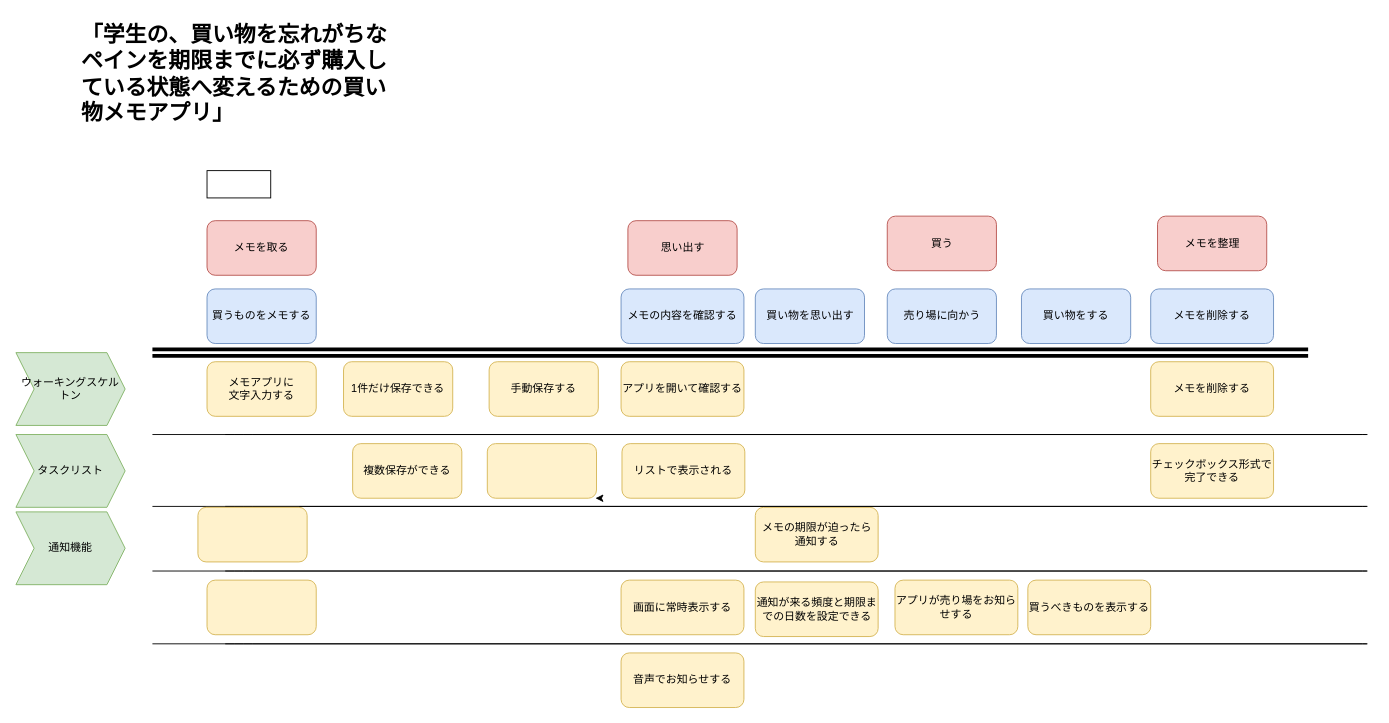
Some shapes in this 1389 by 723 pixel diagram are drawn without their labels. The shapes that lost their labels are listed below. From the top down, each one's centre as x and y in pixels, then its label:
At (x=238, y=184): "学生".
At (x=541, y=470): "自動保存する".
At (x=252, y=534): "期限を入力する".
At (x=261, y=607): "音声入力する".
